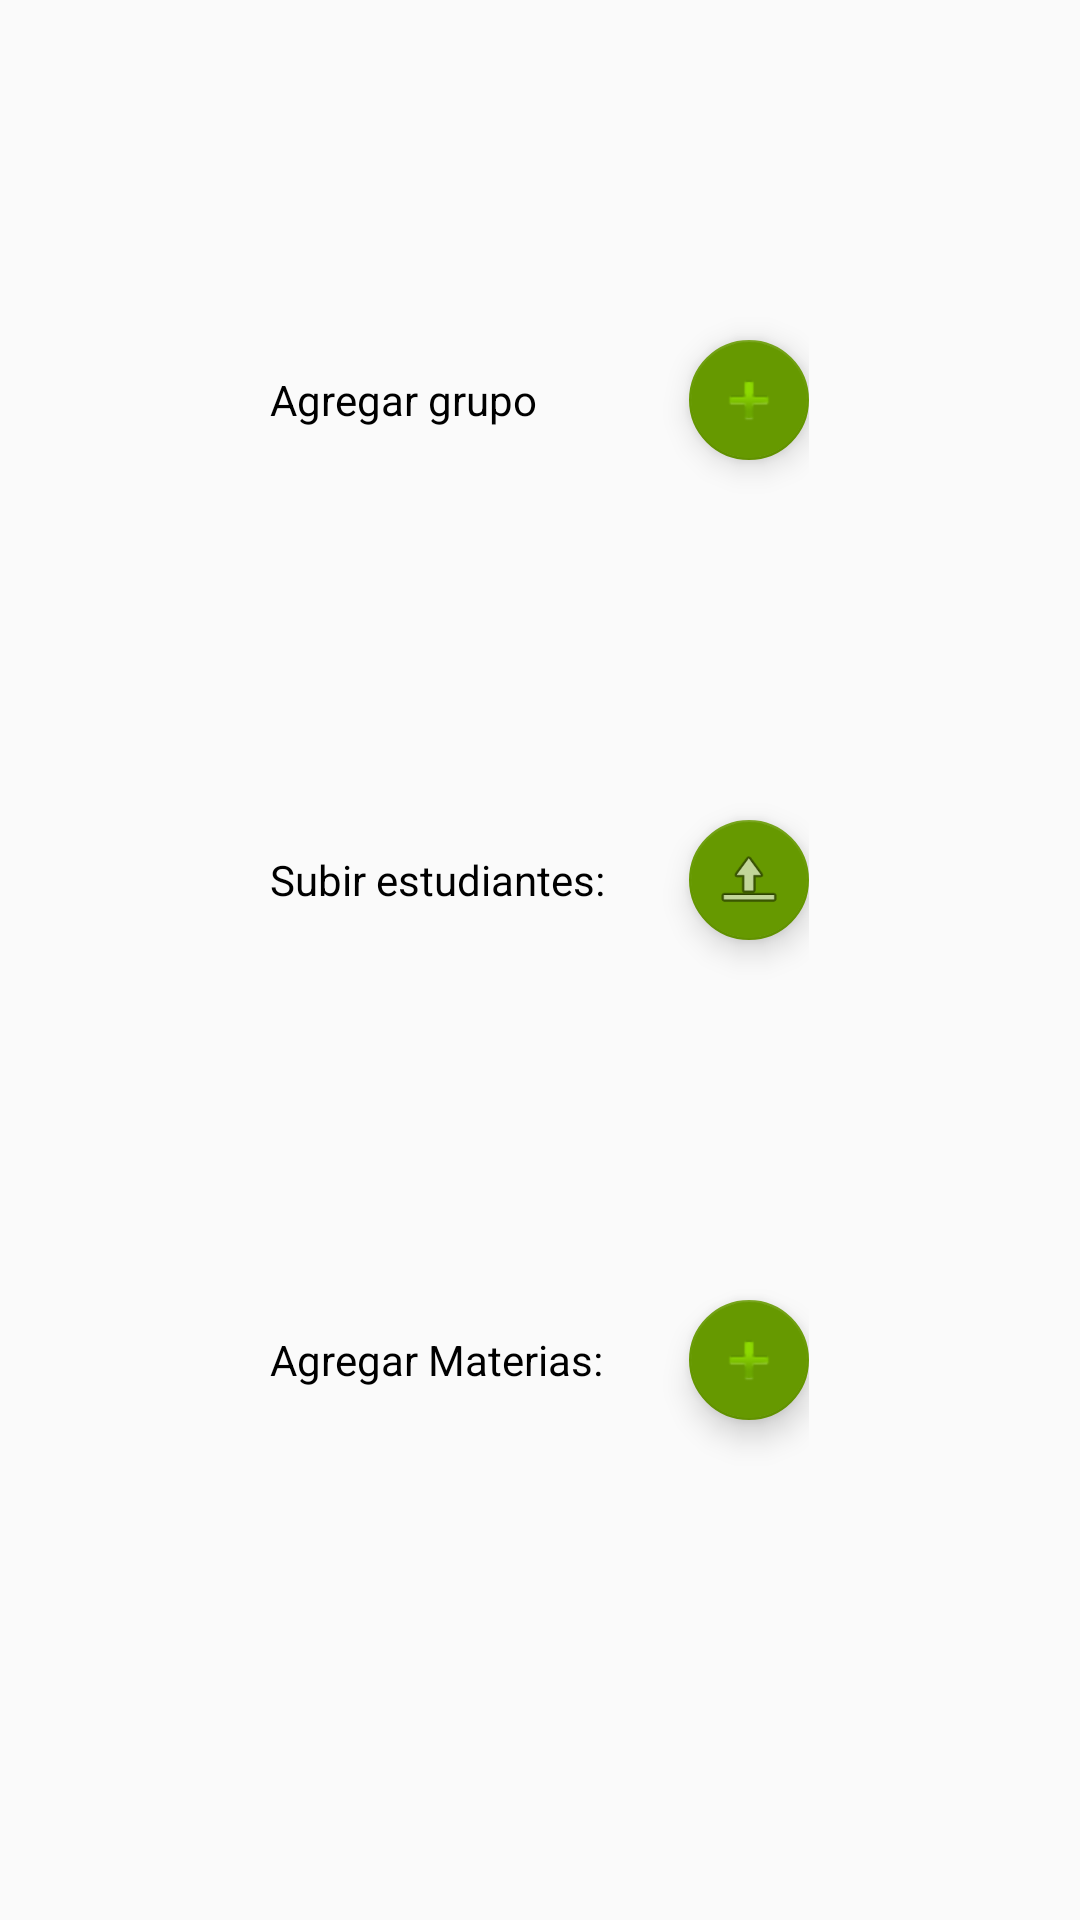

Where to tap for icons on this 1080x1920 app screen, as [x,y]:
add: [749,400], [749,1360]
upload: [749,880]
